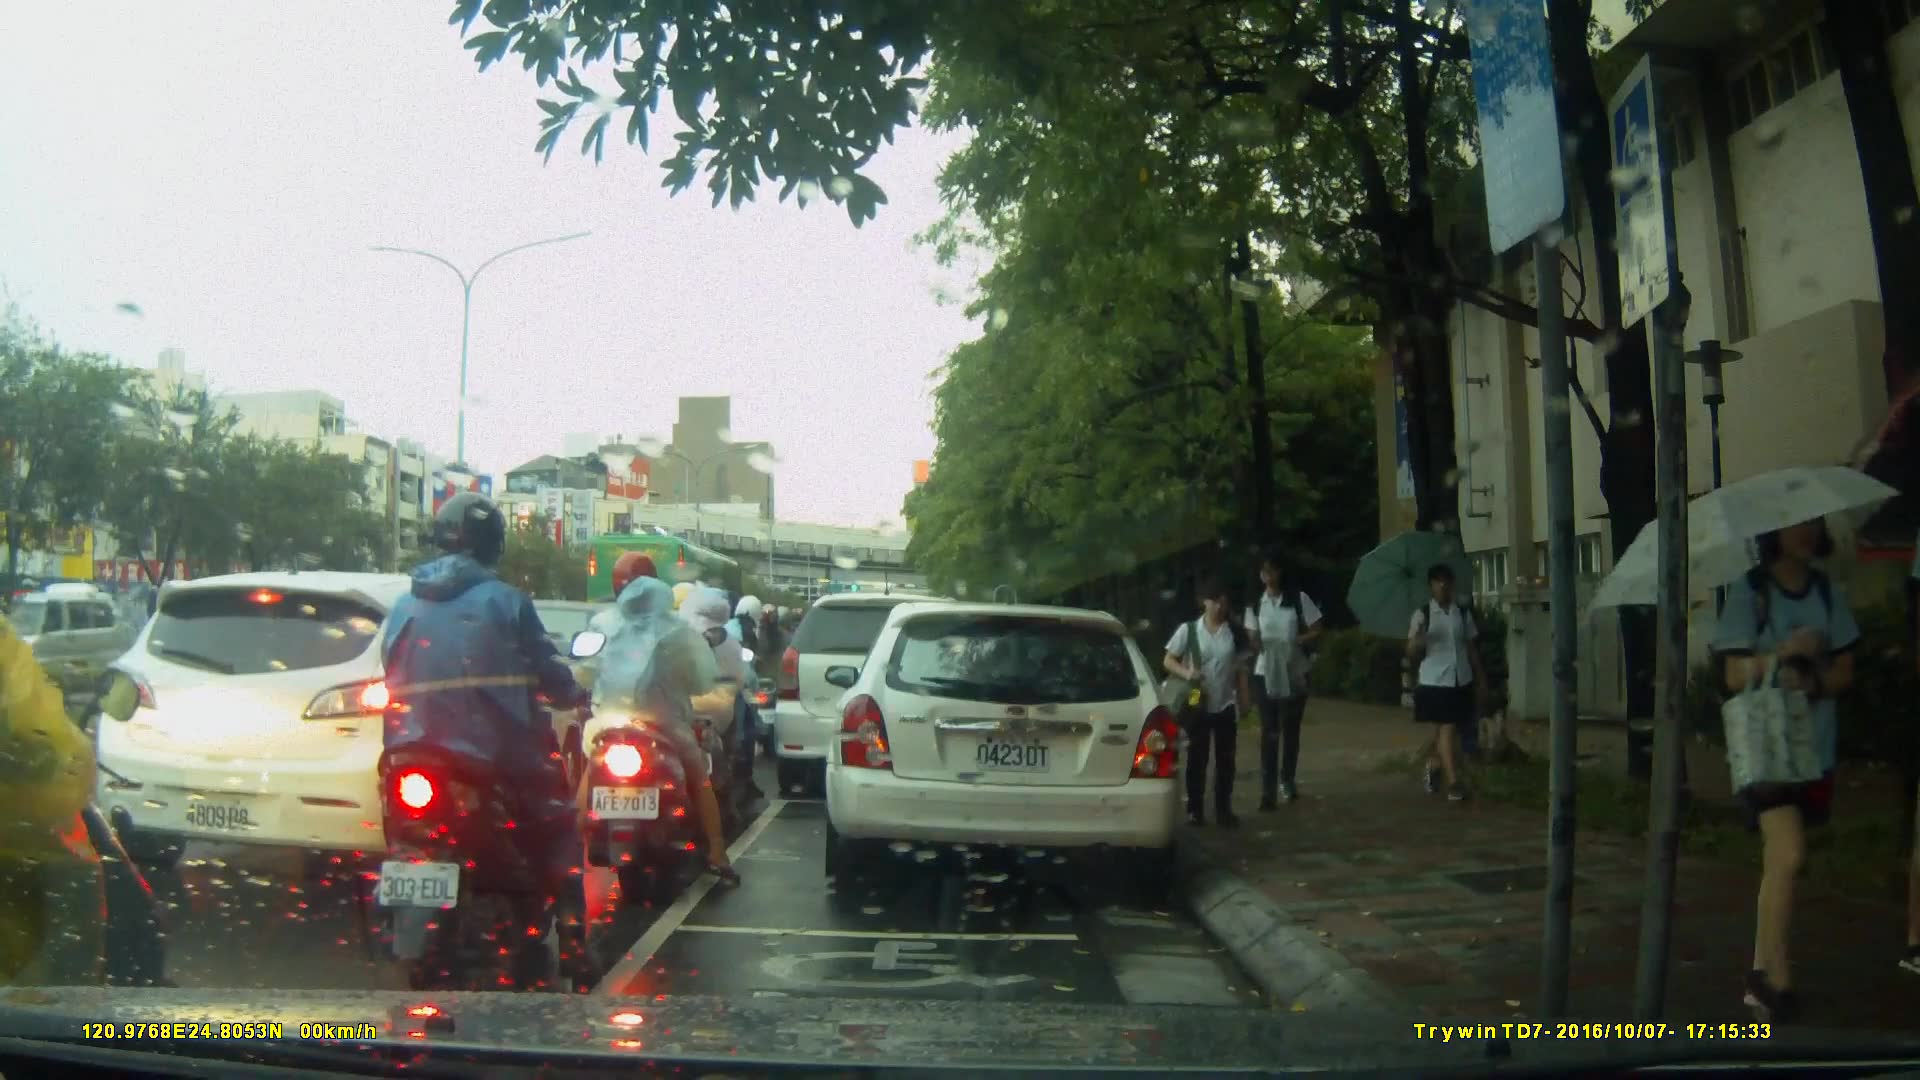pedestrian: (1668, 471, 1822, 1014), (1389, 553, 1490, 806), (1236, 546, 1332, 808), (1161, 575, 1258, 820), (1885, 435, 1920, 993)
rider: (374, 487, 602, 985), (1, 455, 181, 1080), (558, 552, 746, 909), (638, 577, 765, 827), (690, 594, 775, 779)
vehicle: (94, 569, 617, 883), (822, 604, 1187, 883), (774, 595, 995, 802), (591, 533, 761, 647), (15, 593, 126, 704)
